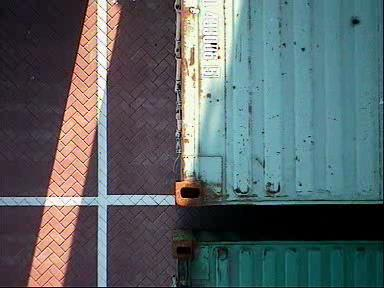groundmarker_2: (184, 15, 243, 98)
